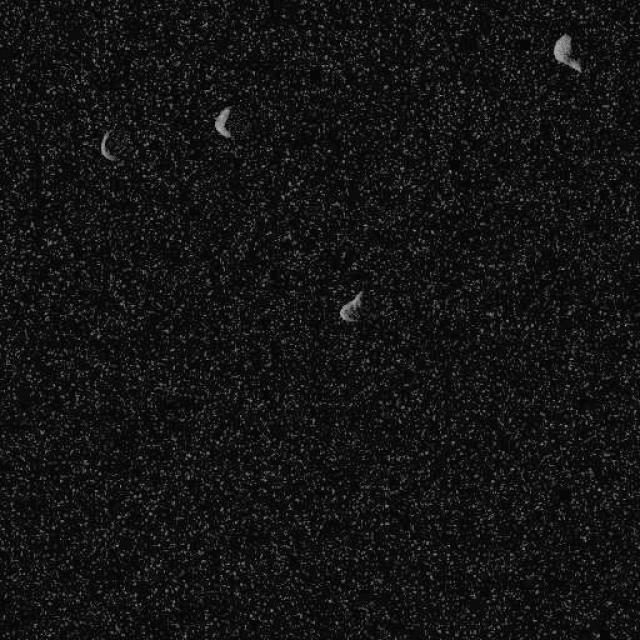D2: (552, 31, 582, 74), (337, 288, 365, 322), (212, 105, 232, 137), (99, 130, 119, 162)
